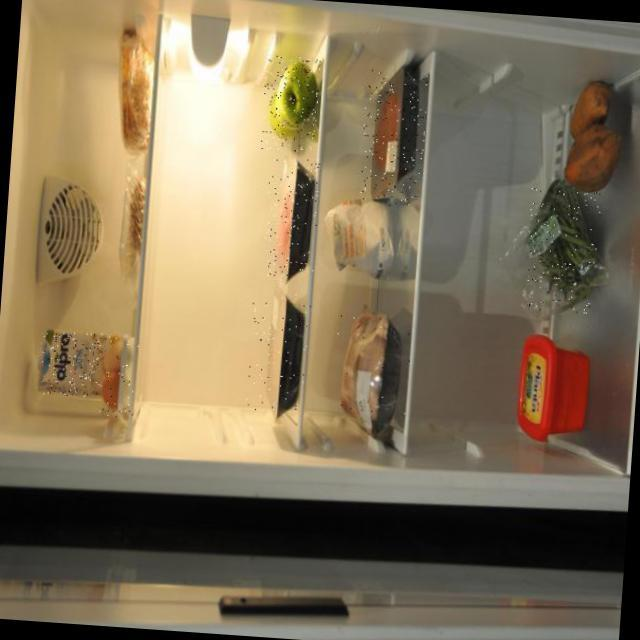Carne pollo: (330, 307, 413, 427)
Huevos: (96, 328, 141, 417)
Manzana: (260, 54, 320, 152)
